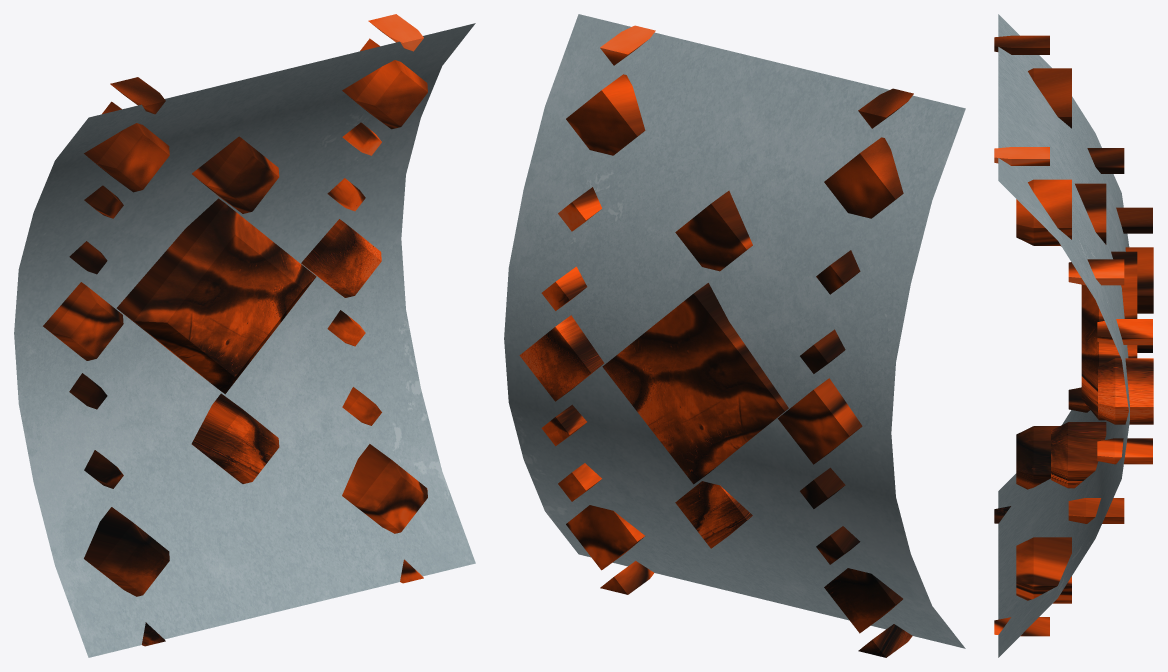
Rendered from Wall_Cubes.fbx.
The picture shows the model from 3 angles, left to right: view 1: azimuth 30°, elevation 25°; view 2: azimuth 150°, elevation 25°; view 3: azimuth 270°, elevation 25°; orthographic projection. The views are drawn at different scales.
Visible parts, largest first — view 1: pPlane2; view 2: pPlane2; view 3: pPlane2.
Boxes of the visible parts, <box> form: pPlane2: <box>14,14,475,657</box>; pPlane2: <box>504,14,965,657</box>; pPlane2: <box>994,14,1153,657</box>.
Bounding box in the file's own units: 3 × 4 × 1.21.
